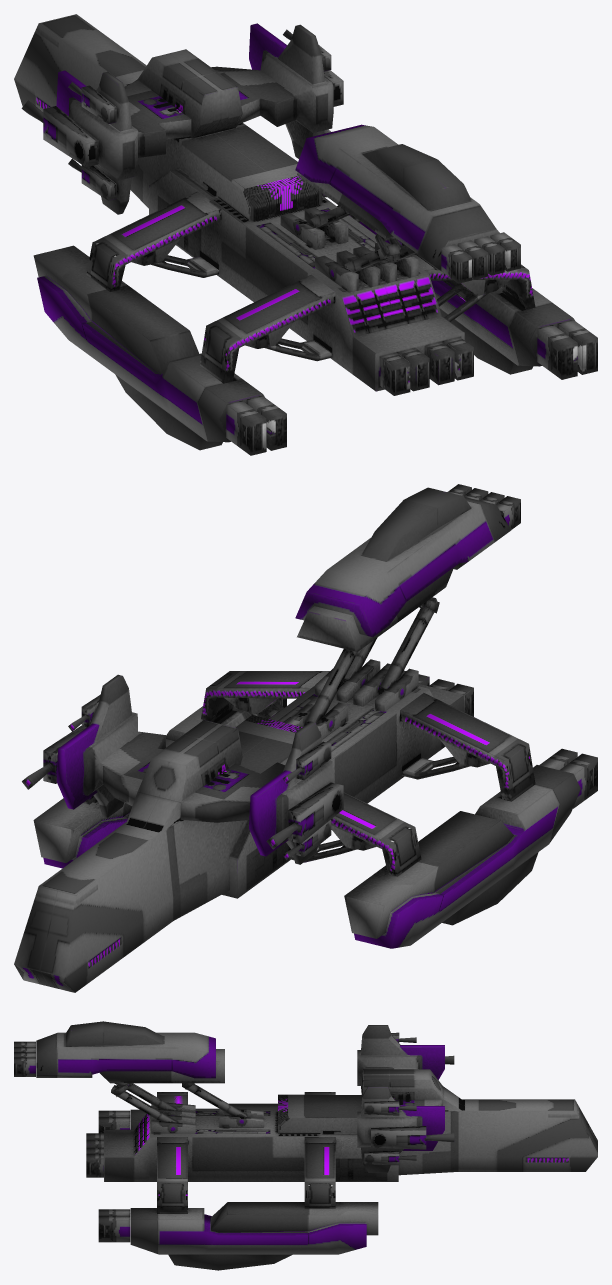
The model's file is PCruiser.fbx.
3 renders of one model, top to bottom at view 1: azimuth 30°, elevation 25°; view 2: azimuth 150°, elevation 25°; view 3: azimuth 270°, elevation 25°, orthographic. The views are drawn at different scales.
Visible parts, largest first — view 1: PCruiser; view 2: PCruiser; view 3: PCruiser.
Boxes of the visible parts, <box> form: PCruiser: <box>14,14,597,455</box>; PCruiser: <box>14,484,597,992</box>; PCruiser: <box>14,1021,597,1270</box>.
Size of the model in its own units: 19.67 by 15.3 by 42.32.
1 material, 1 textured.
